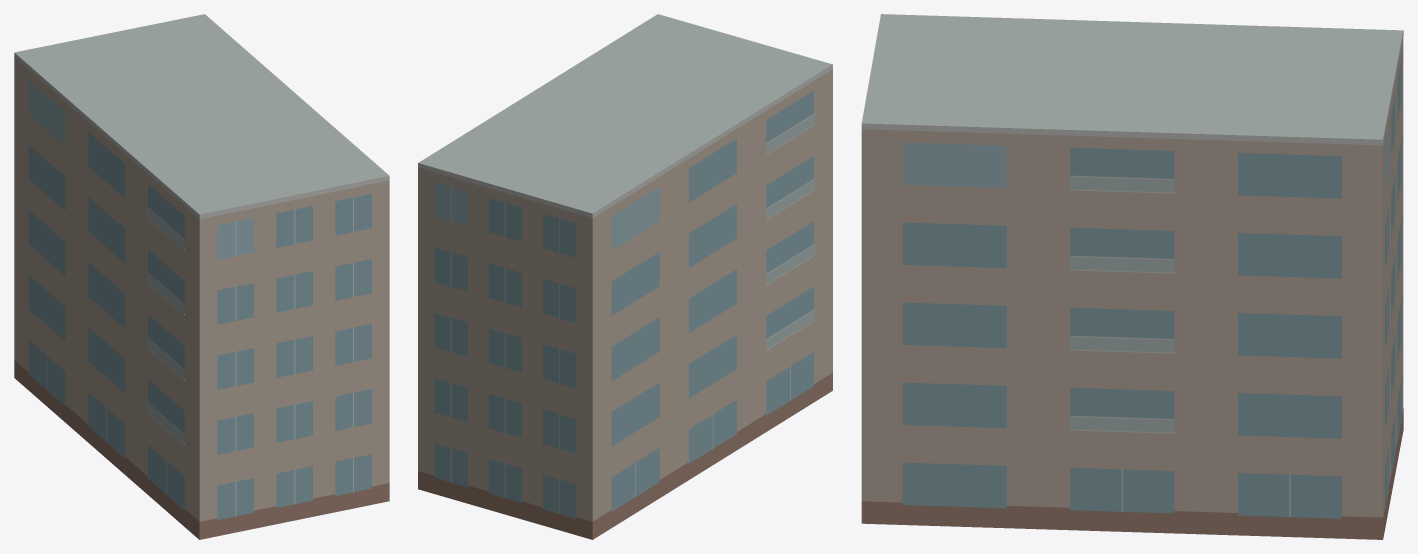
The model's file is survey-upis-32757743.glb.
3 views of the same model, side by side, from view 1: azimuth 30°, elevation 25°; view 2: azimuth 150°, elevation 25°; view 3: azimuth 270°, elevation 25° (orthographic). The views are drawn at different scales.
Parts seen in each view (by area): view 1: survey-upis-32757743.tmp; view 2: survey-upis-32757743.tmp; view 3: survey-upis-32757743.tmp.
Boxes of the visible parts, left/top/right/bottom form: survey-upis-32757743.tmp: left=14, top=14, right=389, bottom=539; survey-upis-32757743.tmp: left=418, top=14, right=832, bottom=539; survey-upis-32757743.tmp: left=861, top=14, right=1403, bottom=539.
Bounding box in the file's own units: 11.4 × 16.9 × 20.75.
